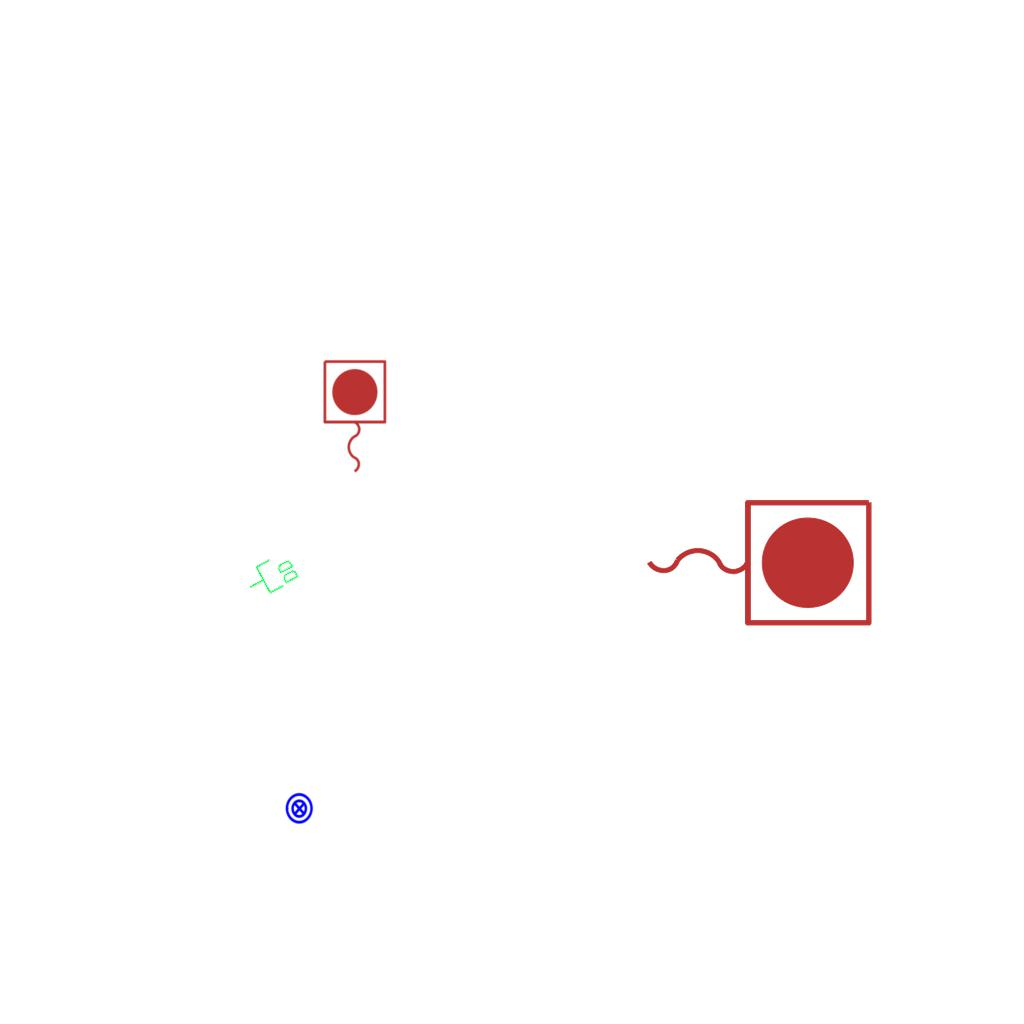Datenanschluss_zweifach: (241, 549, 302, 603)
Taster_beleuchtet: (283, 792, 316, 825)
Zugtaster: (636, 489, 880, 633), (318, 356, 390, 478)
